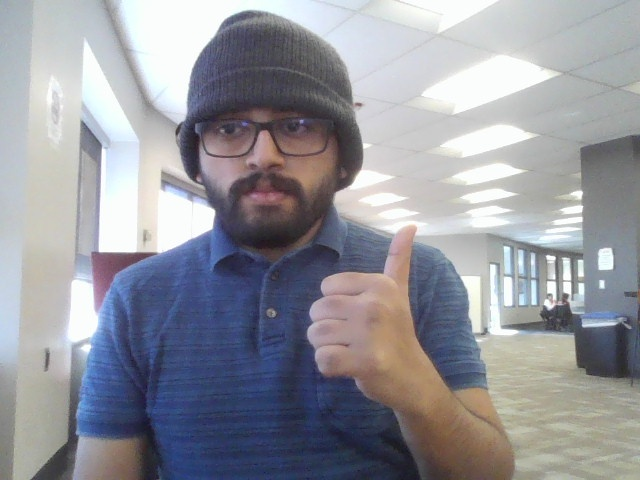start: (309, 213, 426, 415)
